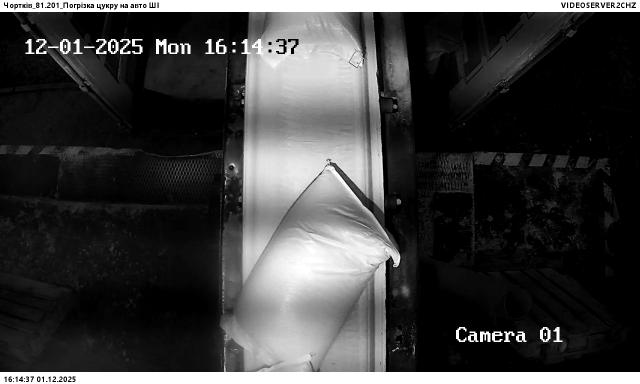bag: (221, 159, 401, 372), (256, 12, 366, 70)
